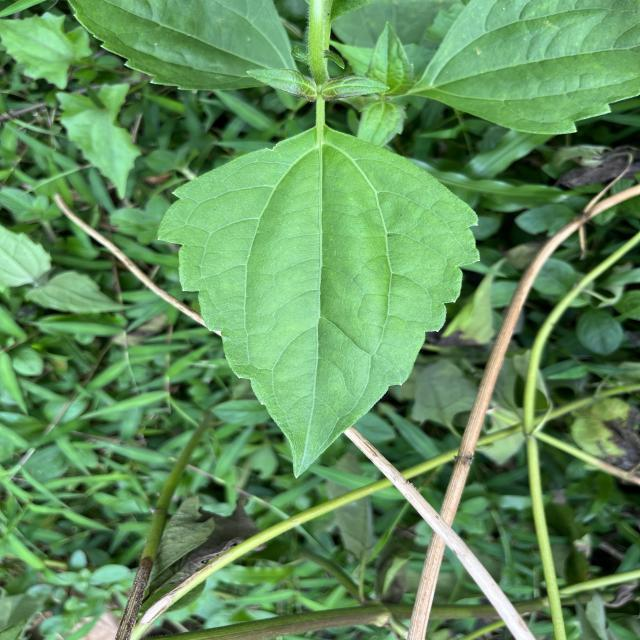Chromolaena odorata: (150, 120, 488, 483)
